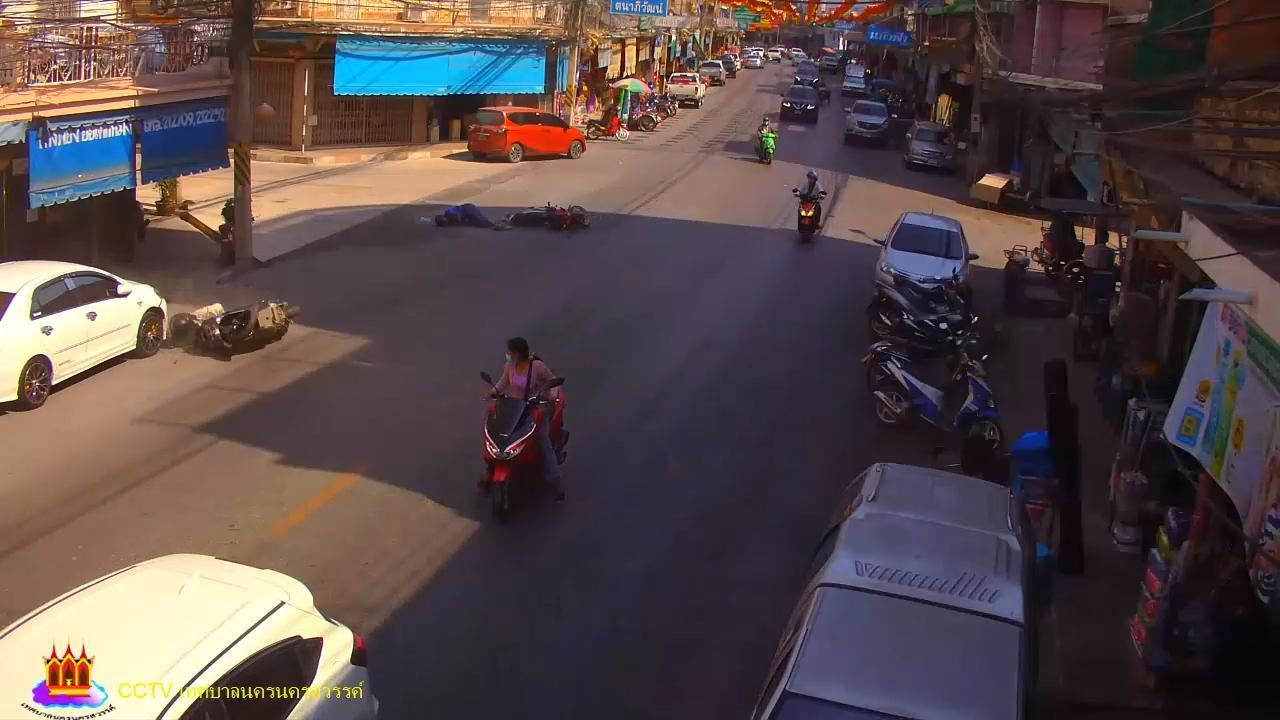accident: (434, 199, 512, 235)
